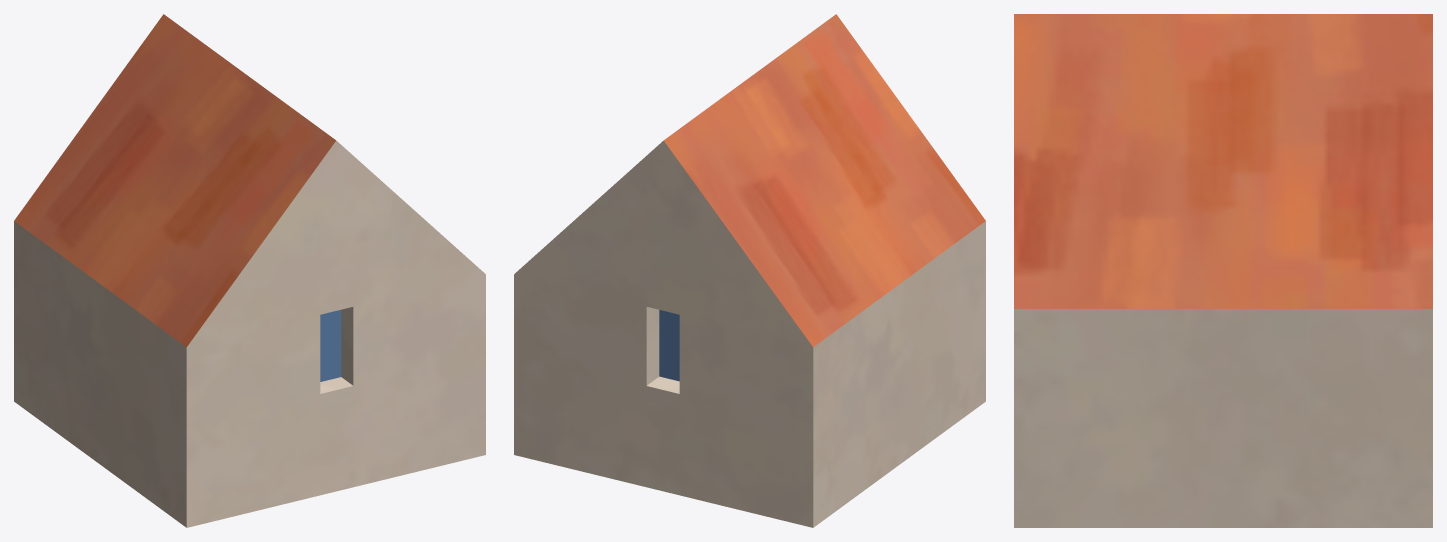
Rendered from house1.fbx.
3 views of the same model, side by side, from view 1: azimuth 30°, elevation 25°; view 2: azimuth 150°, elevation 25°; view 3: azimuth 270°, elevation 25° (orthographic). The views are drawn at different scales.
Visible parts, largest first — view 1: house1; view 2: house1; view 3: house1.
Part boxes in pixels (<box>): house1: <box>14,14,485,527</box>; house1: <box>514,14,985,527</box>; house1: <box>1014,14,1432,527</box>.
Bounding box in the file's own units: 323 × 362 × 323.
